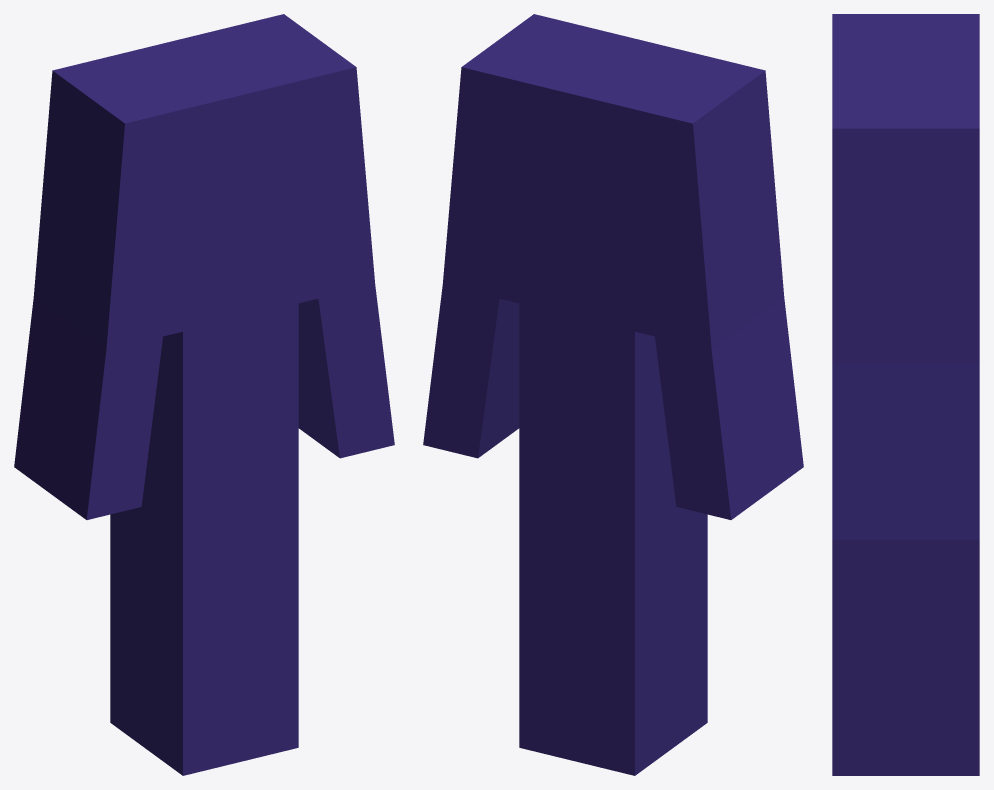
The picture shows the model from 3 angles, left to right: view 1: azimuth 30°, elevation 25°; view 2: azimuth 150°, elevation 25°; view 3: azimuth 270°, elevation 25°; orthographic projection.
Visible parts, largest first — view 1: Cube; view 2: Cube; view 3: Cube.
Part boxes in pixels (<box>): Cube: <box>14,14,394,775</box>; Cube: <box>423,14,803,775</box>; Cube: <box>832,14,979,775</box>.
Size of the model in its own units: 1.45 by 3 by 0.5923.
